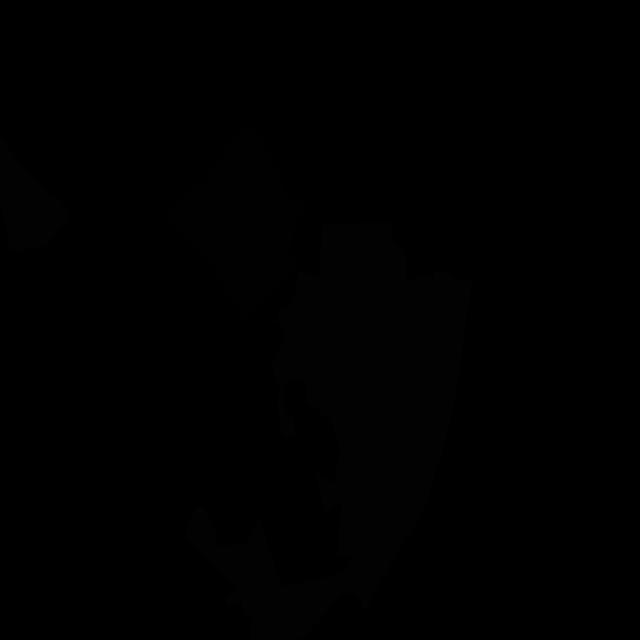cardboard: (186, 258, 472, 639), (0, 137, 70, 255), (319, 221, 407, 300)
rigid_plastic: (165, 124, 306, 321)
